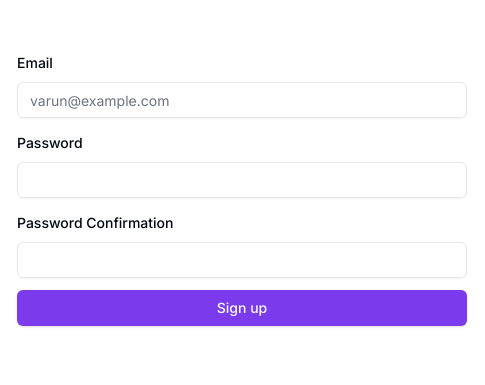
it: Signup › validate sign-up form when the sign up button is clicked without any inputs
Click the button "Sign up" at coordinates (242, 308), box [17, 290, 467, 326]
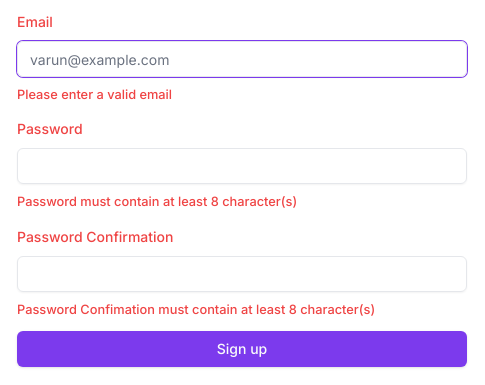
Now the text "Please enter a valid email" is shown, box [17, 87, 172, 102]
Now the text "Password must contain at least 8 character(s)" is shown, box [17, 194, 297, 209]
